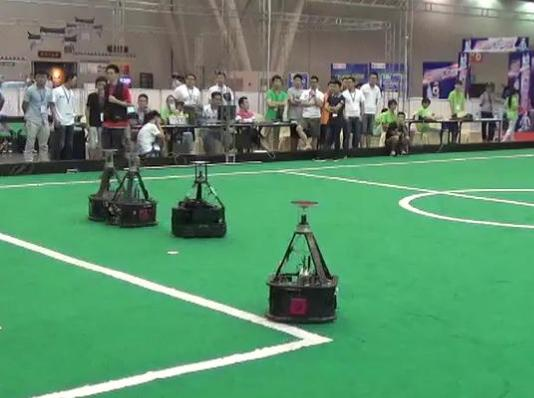robot: (263, 195, 345, 330), (167, 157, 236, 245), (105, 148, 160, 232)
